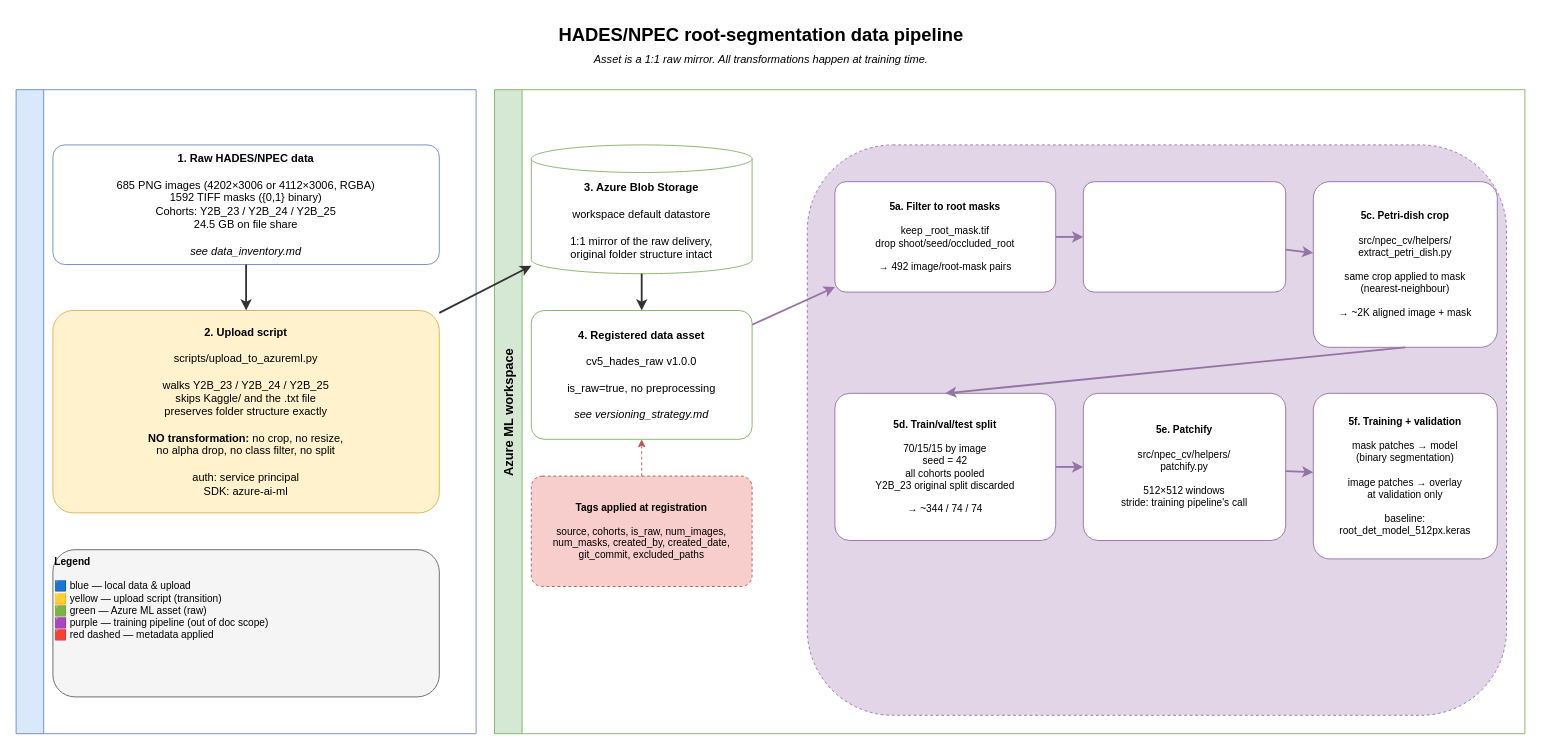
Image size: 1541x750. Some labels were removed from this diagram. The shapes that lost their labels are listed below. From the top down, each one's box as (x1, y1, x2, y2) in pixels, then its label:
(1082, 181, 1286, 292): 5b. Drop alpha RGBA → RGB (images only)
(15, 89, 476, 734): Local workstation / file share
(806, 144, 1506, 715): Training pipeline (owned separately, out of this doc's scope)
